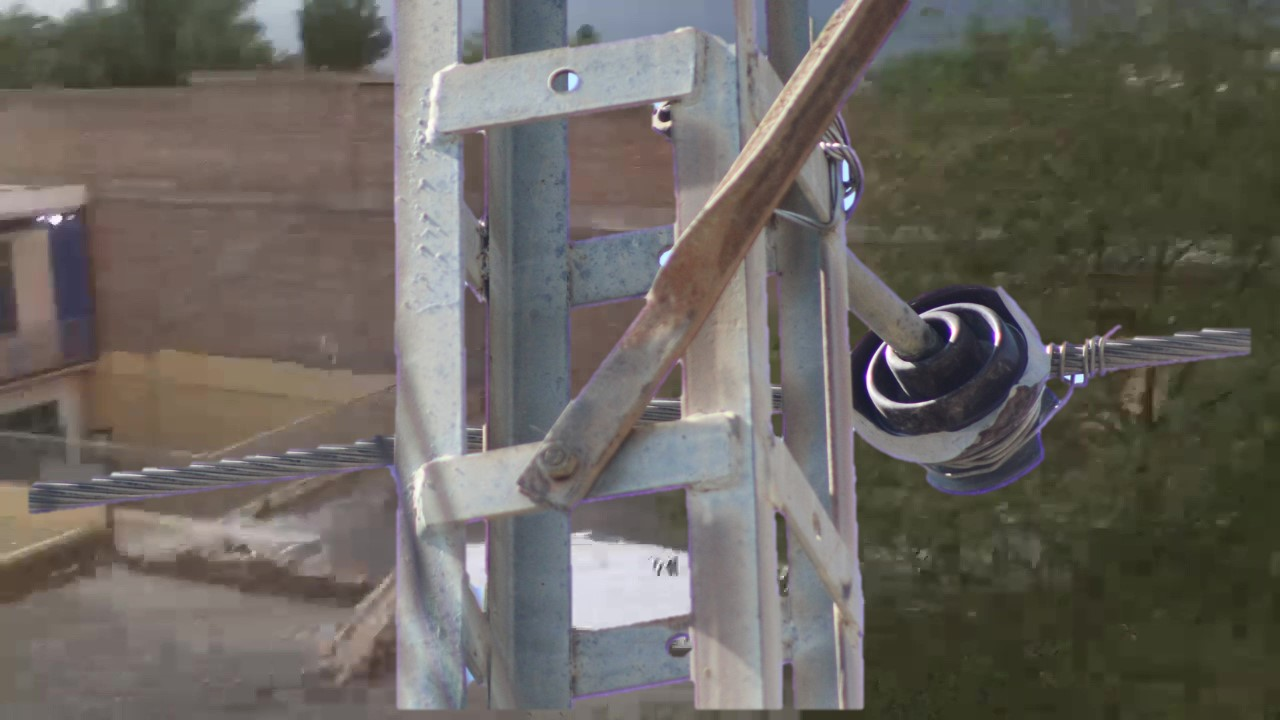defect_pin: (853, 267, 1064, 510)
